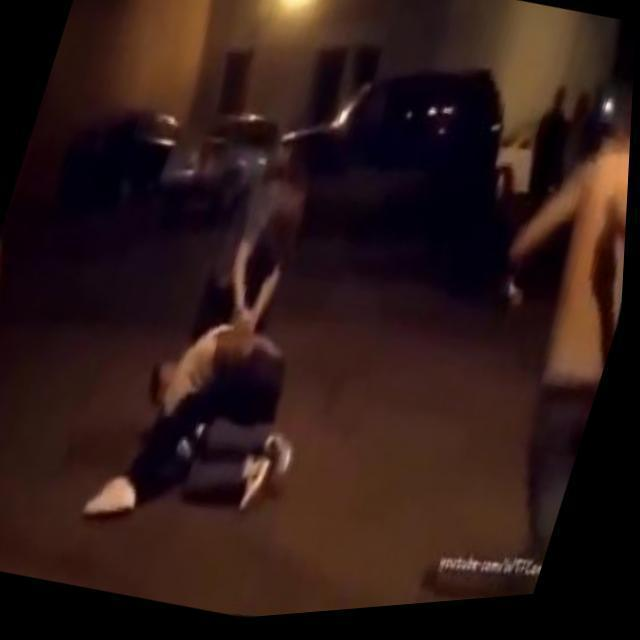fight: (102, 155, 366, 558)
